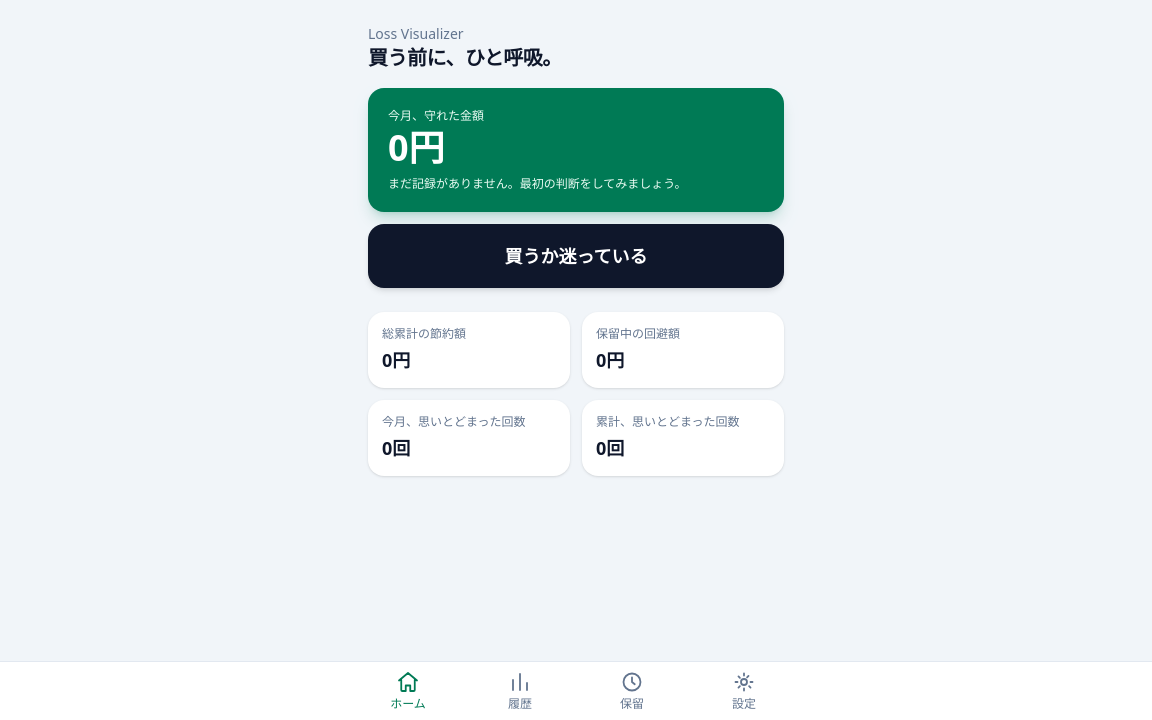
Scenario: 画面遷移 › ホームの導線から購入判断画面へ移動できる
The width and height of the screenshot is (1152, 720).
Click the link "買うか迷っている" at (576, 256), box [368,224,784,288]
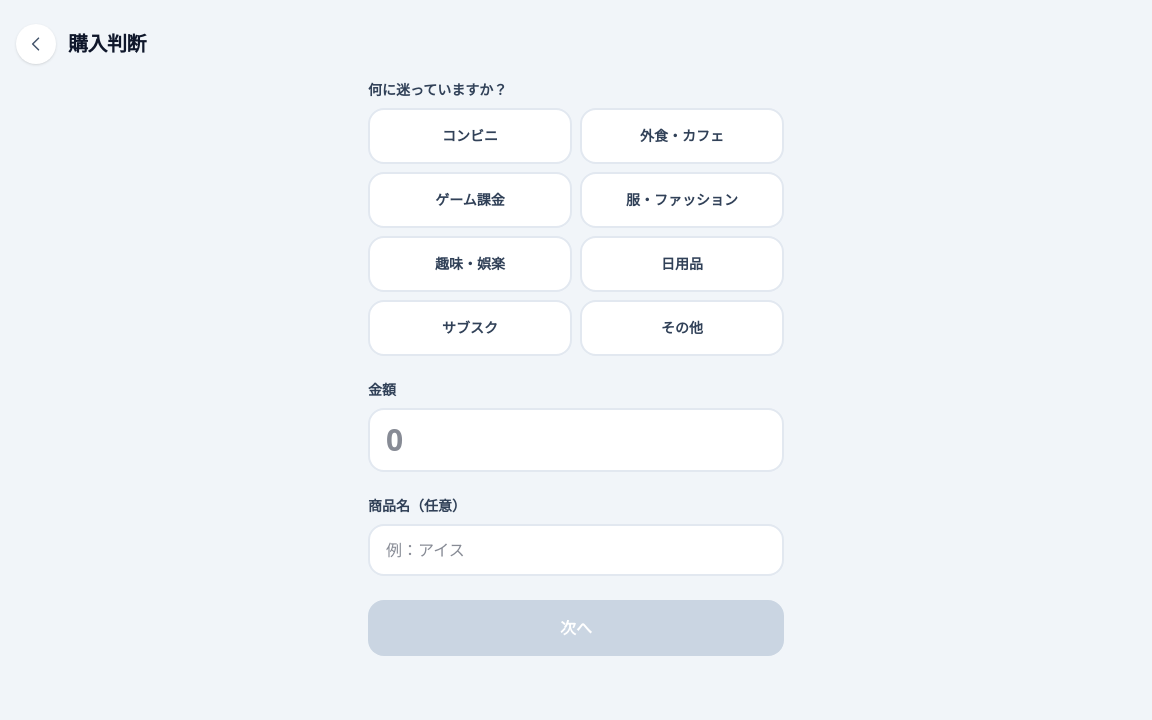
Now the heading "購入判断" is shown, box [68,30,146,58]
